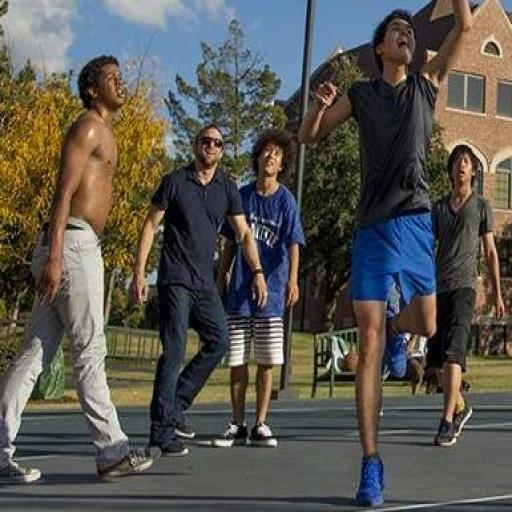person: (300, 0, 472, 505), (0, 57, 152, 483), (132, 124, 267, 455), (212, 129, 304, 447), (429, 145, 504, 445)
